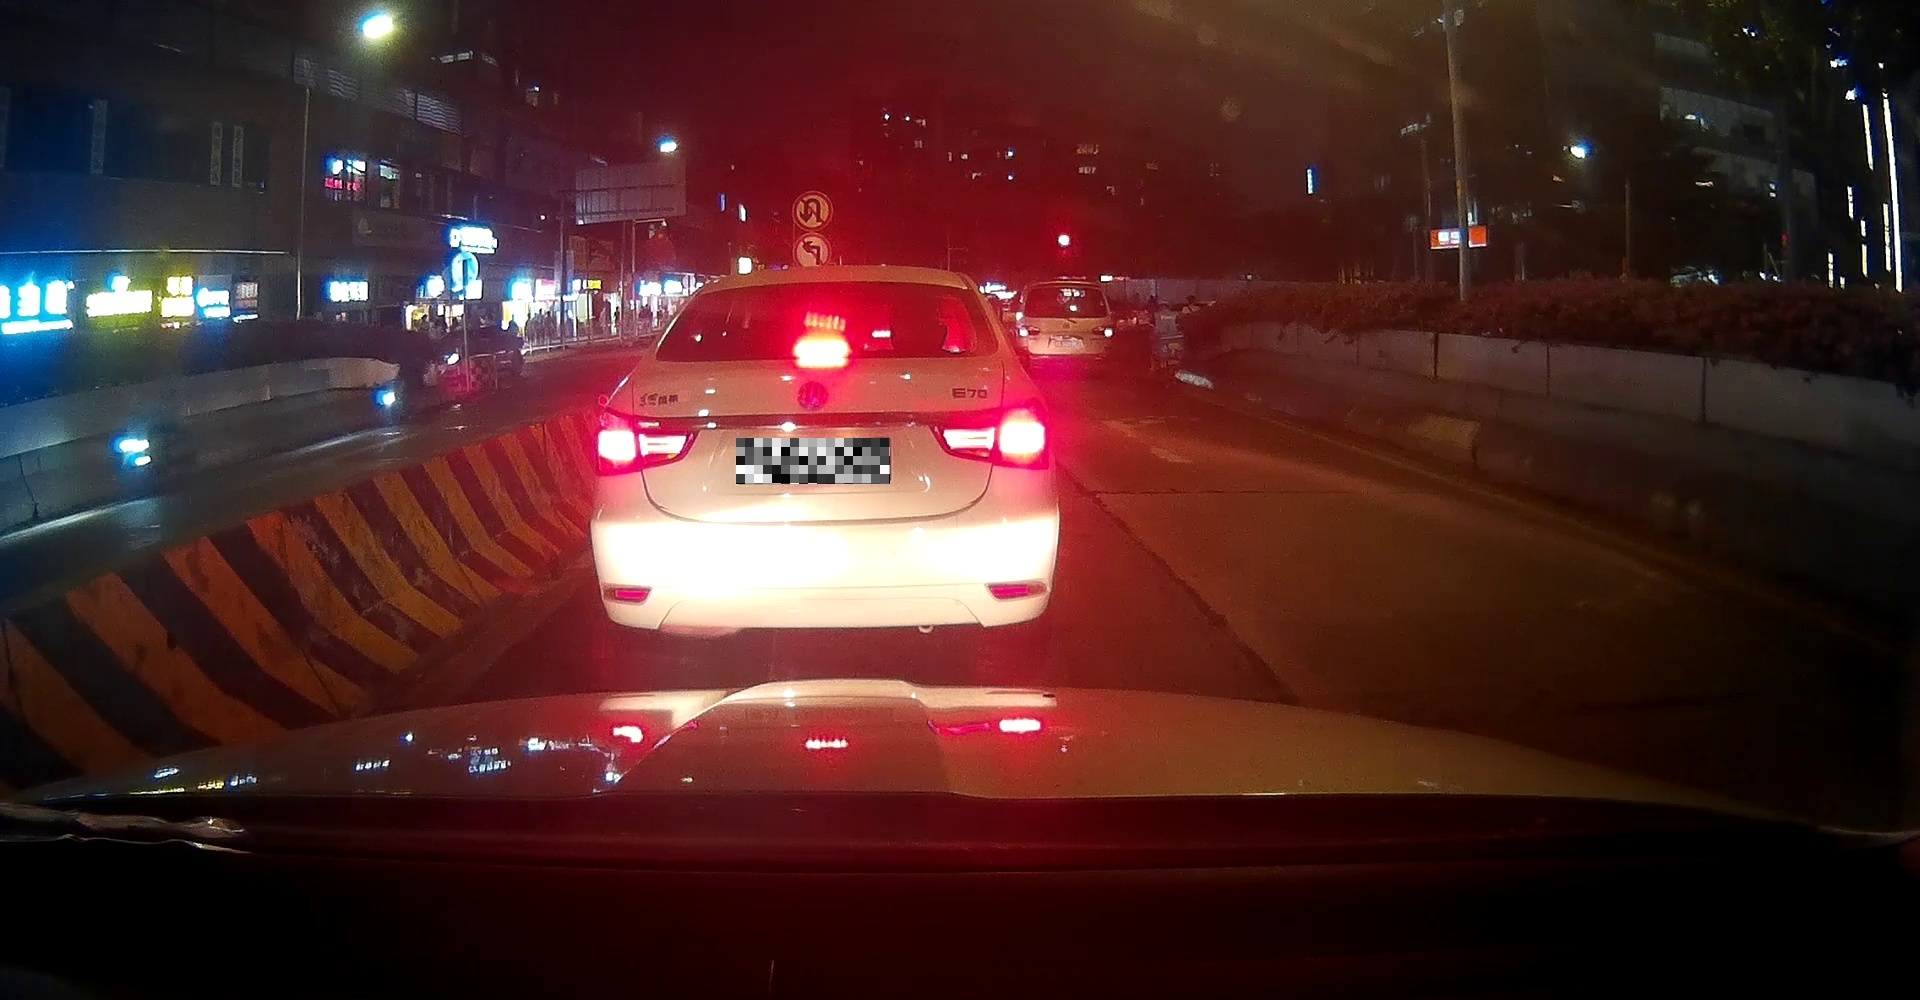L_light: (593, 407, 698, 477)
R_light: (927, 398, 1050, 471)
T_light: (794, 341, 847, 359)
night-brake: (589, 270, 1058, 648)
plate_1: (737, 438, 890, 484)
